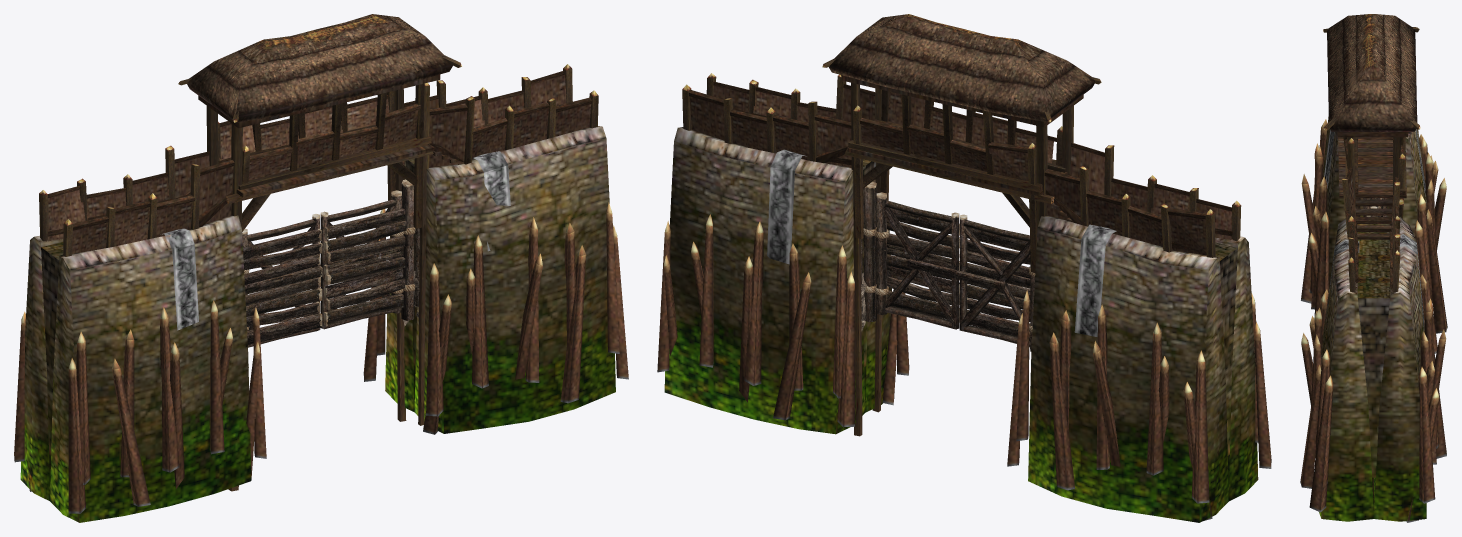
File: s_britons_wall_gate.glb
The picture shows the model from 3 angles, left to right: view 1: azimuth 30°, elevation 25°; view 2: azimuth 150°, elevation 25°; view 3: azimuth 270°, elevation 25°; orthographic projection. The views are drawn at different scales.
Parts seen in each view (by area): view 1: s_britons_wall_gate_part0, s_britons_wall_gate_part1; view 2: s_britons_wall_gate_part0, s_britons_wall_gate_part1; view 3: s_britons_wall_gate_part0.
Part boxes in pixels (x1,y1,x2,y2): s_britons_wall_gate_part0: [14, 14, 628, 522]; s_britons_wall_gate_part1: [242, 179, 419, 367]; s_britons_wall_gate_part0: [657, 14, 1271, 522]; s_britons_wall_gate_part1: [861, 181, 1035, 351]; s_britons_wall_gate_part0: [1300, 14, 1447, 522].
Bounding box in the file's own units: 9.32 × 6.88 × 2.38.
2 materials, 2 textured.
